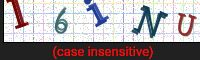1: (5, 1, 31, 32)
6: (52, 5, 71, 35)
N: (130, 3, 170, 39)
U: (175, 10, 197, 38)
i: (82, 1, 110, 28)
